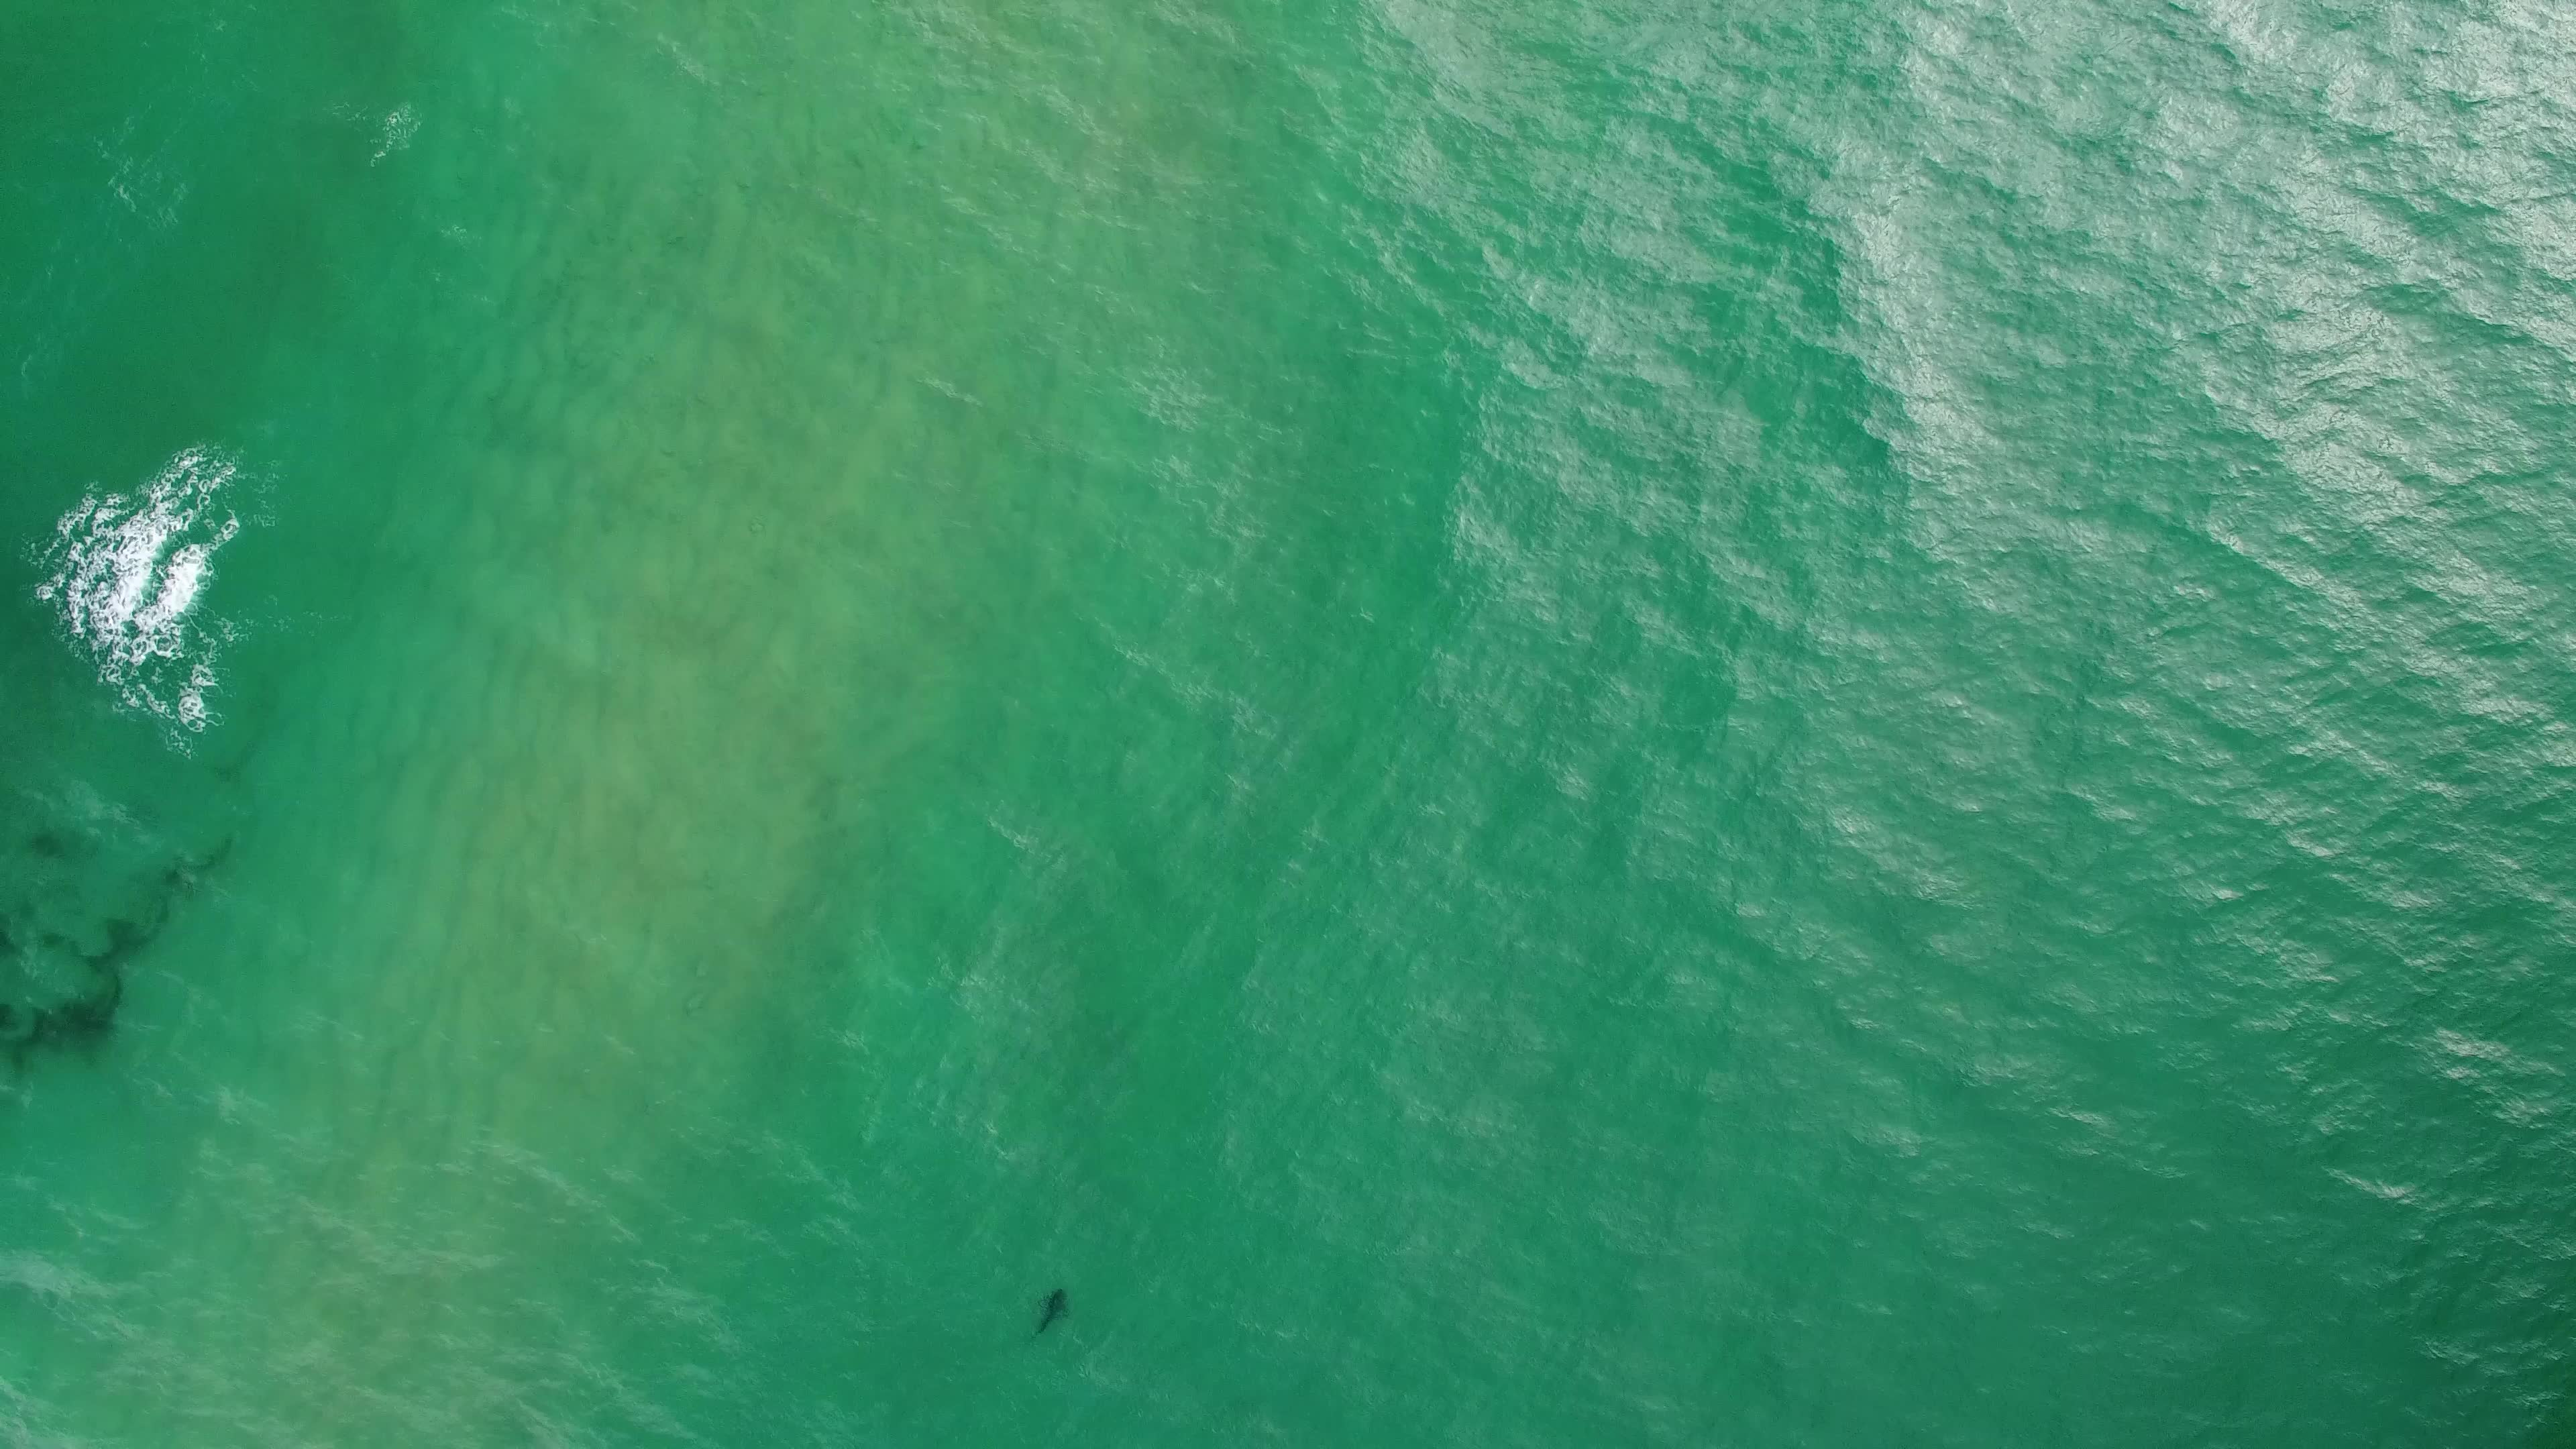shark: (1026, 1281, 1077, 1345)
